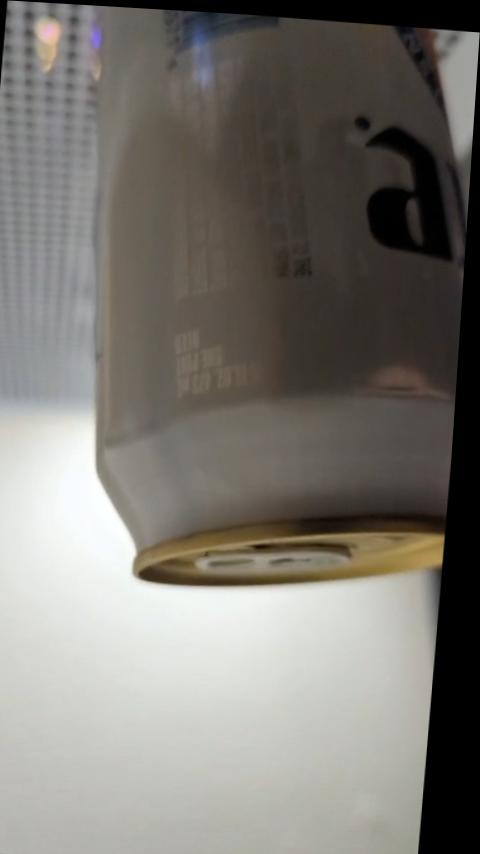metal: (97, 8, 475, 583)
